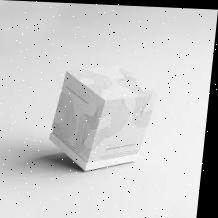cube: (49, 64, 160, 172)
